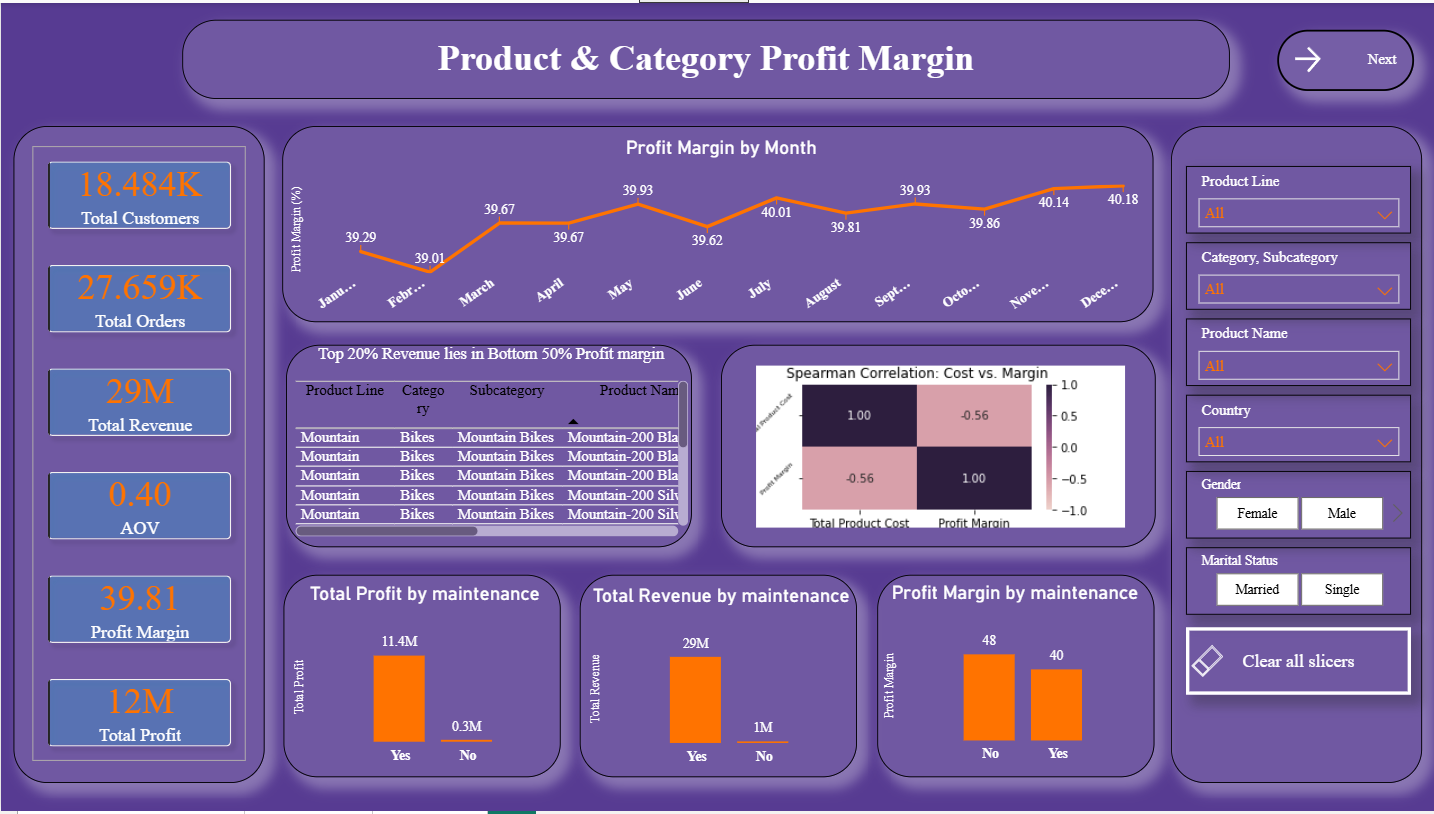

This screenshot's page, from the dashboard's own definition file:
{"tool":"powerbi","page":{"name":"Product & Category Profit","canvas":[1280,720],"ordinal":0},"visuals":[{"type":"textbox","box":[161.4,17.1,931.4,70],"z":0},{"type":"actionButton","box":[1134.3,25.7,121.4,54.3],"z":1000},{"type":"shape","box":[11.4,111.4,222.9,584.3],"z":2000},{"type":"shape","box":[1040,111.4,222.9,584.3],"z":3000},{"type":"cardVisual","fields":{"Data":["Count(dim_customers.customer_key)","Count(fact_sales.order_number)","DAX Measures.Total Revenue","DAX Measures.AOV","DAX Measures.Profit Margin","DAX Measures.Total Profit"]},"box":[11,112,223,583],"z":4000},{"type":"shape","box":[250,111.4,774.3,174.3],"z":5000},{"type":"lineChart","fields":{"Category":["fact_sales.order_date.Variation.Date Hierarchy.Month"],"Y":["DAX Measures.Profit Margin"]},"box":[253,120,774,165],"z":6000},{"type":"shape","box":[253.3,305.6,361.1,180],"z":7000},{"type":"slicer","fields":{"Values":["dim_products.product_line"]},"box":[1053,146.2,200,60],"z":8000},{"type":"slicer","fields":{"Values":["dim_products.category","dim_products.subcategory"]},"box":[1053,214,200,60],"z":9000},{"type":"slicer","fields":{"Values":["dim_products.product_name"]},"box":[1053,281.8,200,60],"z":10000},{"type":"slicer","fields":{"Values":["dim_customers.country"]},"box":[1053,349.6,200,60],"z":11000},{"type":"slicer","fields":{"Values":["dim_customers.gender"]},"box":[1053,417.4,200,60],"z":12000},{"type":"shape","box":[640,305,386.2,180],"z":13000},{"type":"slicer","fields":{"Values":["dim_customers.marital_status"]},"box":[1053,485.2,200,60],"z":14000},{"type":"actionButton","box":[1053,557,200,60],"z":15000},{"type":"tableEx","title":"Top 20% Revenue lies in Bottom 50% Profit margin","fields":{"Values":["product_line_metric.product_line","product_line_metric.category","product_line_metric.subcategory","product_line_metric.product_name","DAX Measures.Total Revenue","DAX Measures.Profit Margin","product_line_metric.Percentile Revenue Rank","product_line_metric.Percentile Margin Rank"]},"box":[255,305,360,175],"z":16000},{"type":"pythonVisual","fields":{"Values":["product_line_metric.Total Product Cost","product_line_metric.Profit Margin"]},"box":[665,308.8,338.8,173.8],"z":17000},{"type":"shape","box":[251,510.5,246.2,180],"z":18000},{"type":"shape","box":[514.7,510.5,246.2,180],"z":19000},{"type":"shape","box":[778.5,510.5,246.2,180],"z":20000},{"type":"clusteredColumnChart","fields":{"Category":["dim_products.maintenance"],"Y":["DAX Measures.Total Profit"]},"box":[255,516.2,242.5,168.8],"z":21000},{"type":"clusteredColumnChart","fields":{"Category":["dim_products.maintenance"],"Y":["DAX Measures.Total Revenue"]},"box":[518.8,517.5,242.5,168.8],"z":22000},{"type":"clusteredColumnChart","fields":{"Category":["dim_products.maintenance"],"Y":["DAX Measures.Profit Margin"]},"box":[780,515,242.5,168.8],"z":23000}]}

Visuals, with their boxes in screenshot pixels (x1, y1, x2, y2), scaled from the page's 1280x720 canvas onto the 1434x814 screenshot:
textbox: {"x1": 181, "y1": 19, "x2": 1224, "y2": 98}
actionButton: {"x1": 1271, "y1": 29, "x2": 1407, "y2": 90}
shape: {"x1": 13, "y1": 126, "x2": 262, "y2": 787}
shape: {"x1": 1165, "y1": 126, "x2": 1415, "y2": 787}
cardVisual - Count(dim_customers.customer_key) x Count(fact_sales.order_number): {"x1": 12, "y1": 127, "x2": 262, "y2": 786}
shape: {"x1": 280, "y1": 126, "x2": 1148, "y2": 323}
lineChart - fact_sales.order_date.Variation.Date Hierarchy.Month x DAX Measures.Profit Margin: {"x1": 283, "y1": 136, "x2": 1151, "y2": 322}
shape: {"x1": 284, "y1": 345, "x2": 688, "y2": 549}
slicer - dim_products.product_line: {"x1": 1180, "y1": 165, "x2": 1404, "y2": 233}
slicer - dim_products.category x dim_products.subcategory: {"x1": 1180, "y1": 242, "x2": 1404, "y2": 310}
slicer - dim_products.product_name: {"x1": 1180, "y1": 319, "x2": 1404, "y2": 386}
slicer - dim_customers.country: {"x1": 1180, "y1": 395, "x2": 1404, "y2": 463}
slicer - dim_customers.gender: {"x1": 1180, "y1": 472, "x2": 1404, "y2": 540}
shape: {"x1": 717, "y1": 345, "x2": 1150, "y2": 548}
slicer - dim_customers.marital_status: {"x1": 1180, "y1": 549, "x2": 1404, "y2": 616}
actionButton: {"x1": 1180, "y1": 630, "x2": 1404, "y2": 698}
"Top 20% Revenue lies in Bottom 50% Profit margin" tableEx: {"x1": 286, "y1": 345, "x2": 689, "y2": 543}
pythonVisual - product_line_metric.Total Product Cost x product_line_metric.Profit Margin: {"x1": 745, "y1": 349, "x2": 1125, "y2": 546}
shape: {"x1": 281, "y1": 577, "x2": 557, "y2": 781}
shape: {"x1": 577, "y1": 577, "x2": 852, "y2": 781}
shape: {"x1": 872, "y1": 577, "x2": 1148, "y2": 781}
clusteredColumnChart - dim_products.maintenance x DAX Measures.Total Profit: {"x1": 286, "y1": 584, "x2": 557, "y2": 774}
clusteredColumnChart - dim_products.maintenance x DAX Measures.Total Revenue: {"x1": 581, "y1": 585, "x2": 853, "y2": 776}
clusteredColumnChart - dim_products.maintenance x DAX Measures.Profit Margin: {"x1": 874, "y1": 582, "x2": 1146, "y2": 773}
